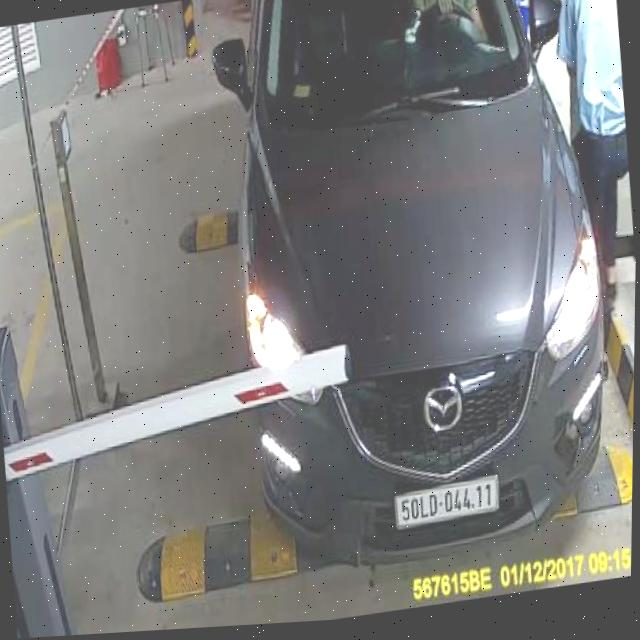car: (189, 0, 629, 586)
plate: (388, 475, 504, 530)
